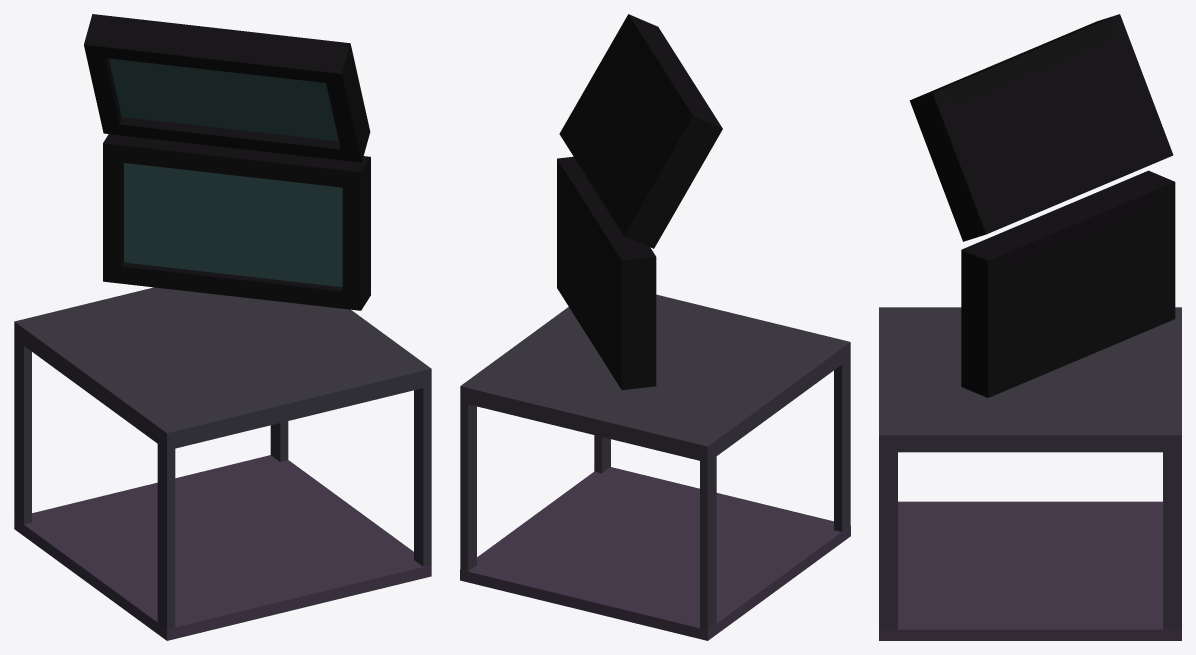
File: monitor2.dae
The picture shows the model from 3 angles, left to right: view 1: azimuth 30°, elevation 25°; view 2: azimuth 150°, elevation 25°; view 3: azimuth 270°, elevation 25°; orthographic projection. The views are drawn at different scales.
Parts seen in each view (by area): view 1: monitor2_MSH1; view 2: monitor2_MSH1; view 3: monitor2_MSH1.
Part boxes in pixels (left/top/right/bottom): monitor2_MSH1: left=14, top=14, right=431, bottom=640; monitor2_MSH1: left=460, top=14, right=850, bottom=640; monitor2_MSH1: left=879, top=14, right=1181, bottom=640.
Bounding box in the file's own units: 1 × 1.9 × 1.
